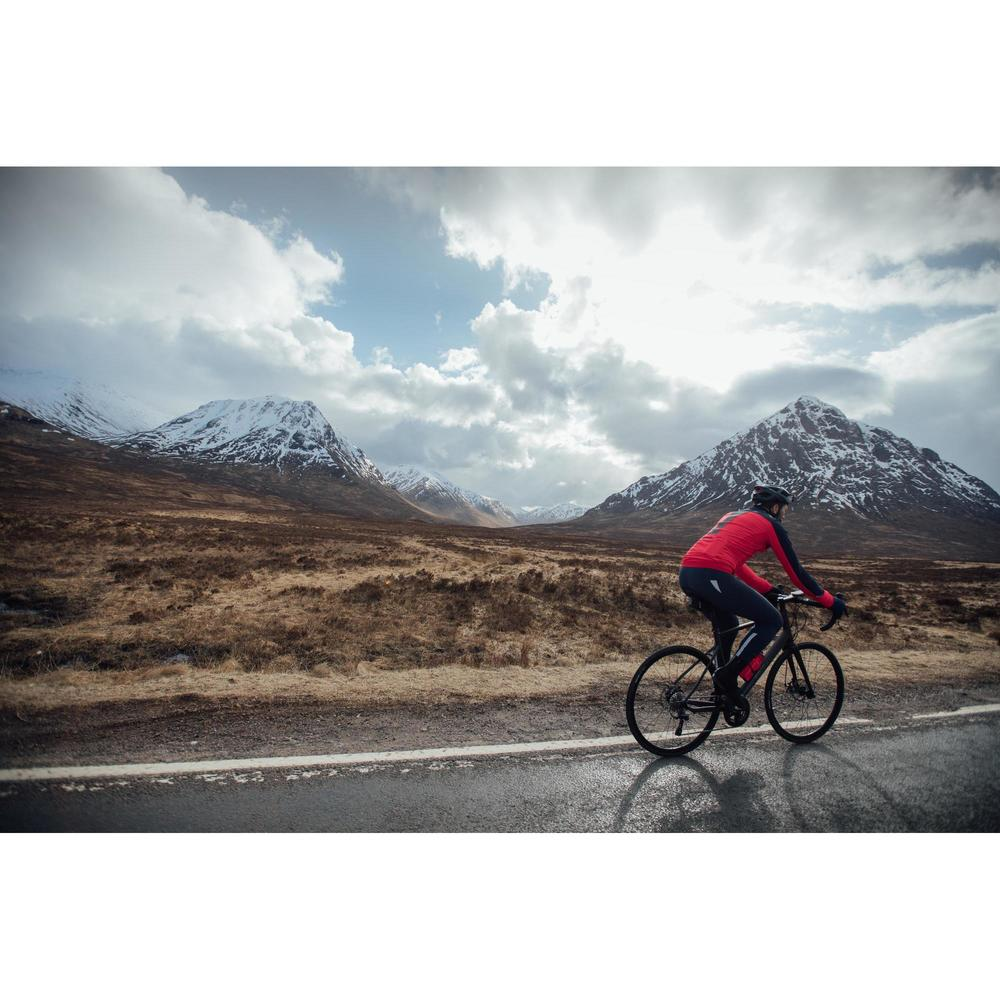RoadBike: (621, 577, 850, 760)
